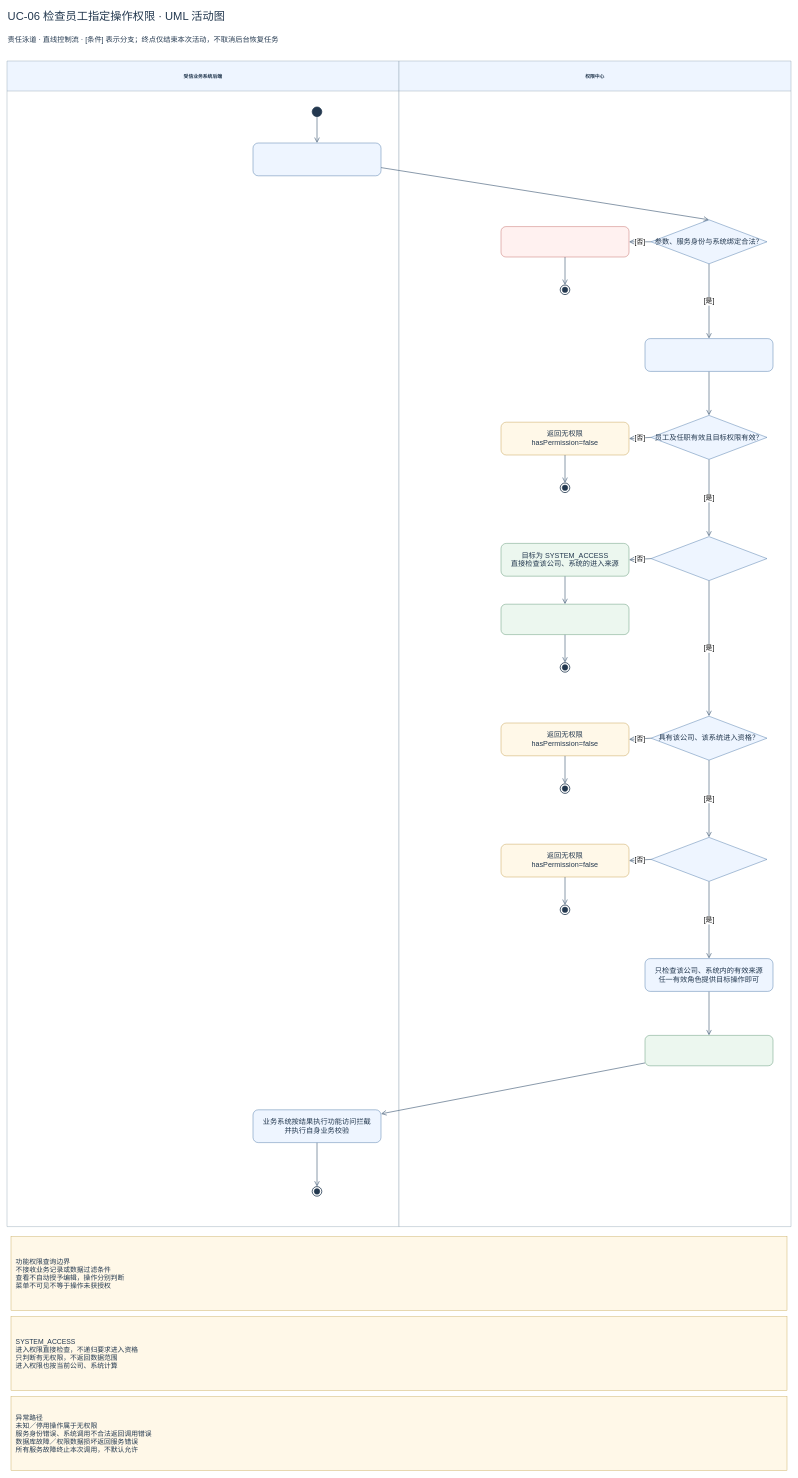
The diagram is 798 pixels wide and 1478 high, and some of its shapes have lost their labels. The centre of each missing label's shape, as x and y in pixels:
"存在该操作的有效授权来源？" belongs at point 709,859.
"提交服务凭据、员工、当前公司 系统及待检查权限编码" belongs at point 317,159.
"检查员工／公司状态和有效任职 读取目标权限及当前有效授权" belongs at point 709,354.
"目标是功能操作权限？" belongs at point 709,558.
"返回 hasPermission=true" belongs at point 709,1050.
"返回对应 hasPermission" belongs at point 565,619.
"返回调用错误，不能据此放行" belongs at point 565,241.
